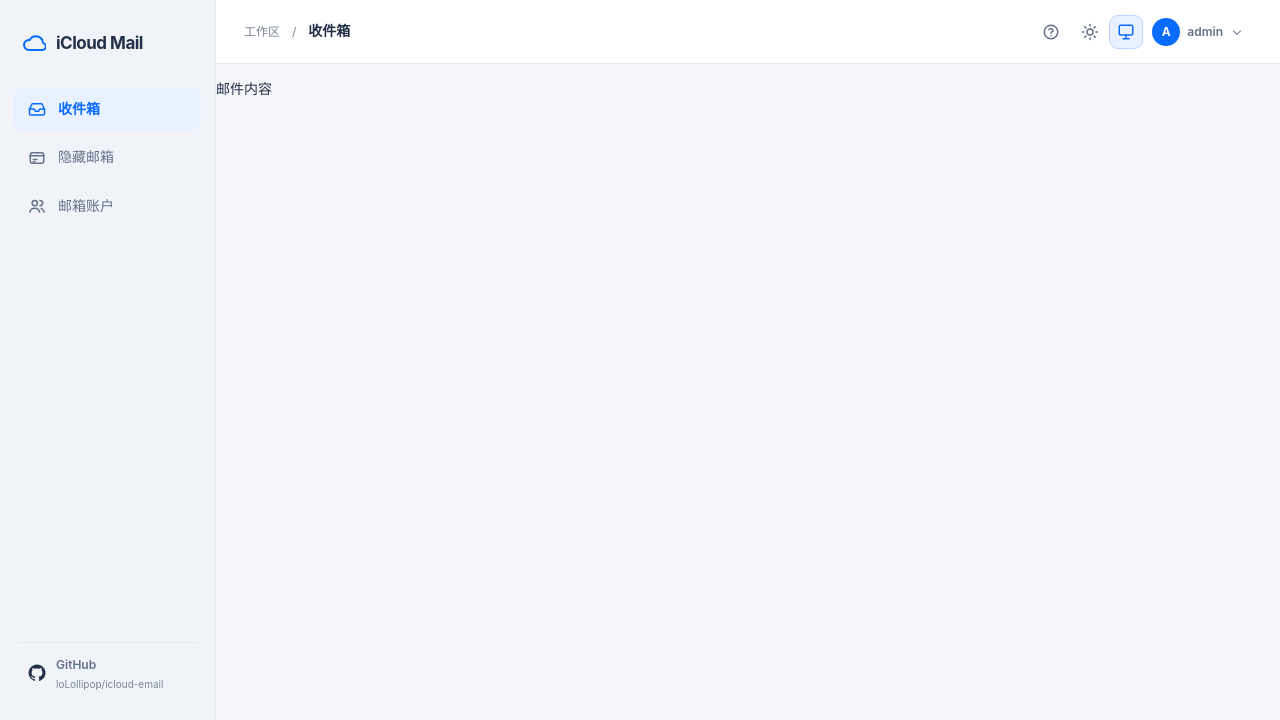
Scenario: AppShell › 导航使用新品牌，收件箱有独立布局且使用指南可访问
This screenshot has width=1280, height=720.
Expected: the text "admin" is shown, [1187,22,1223,41]
Click the link "邮箱账户" at (71, 206), box [28,197,114,215]
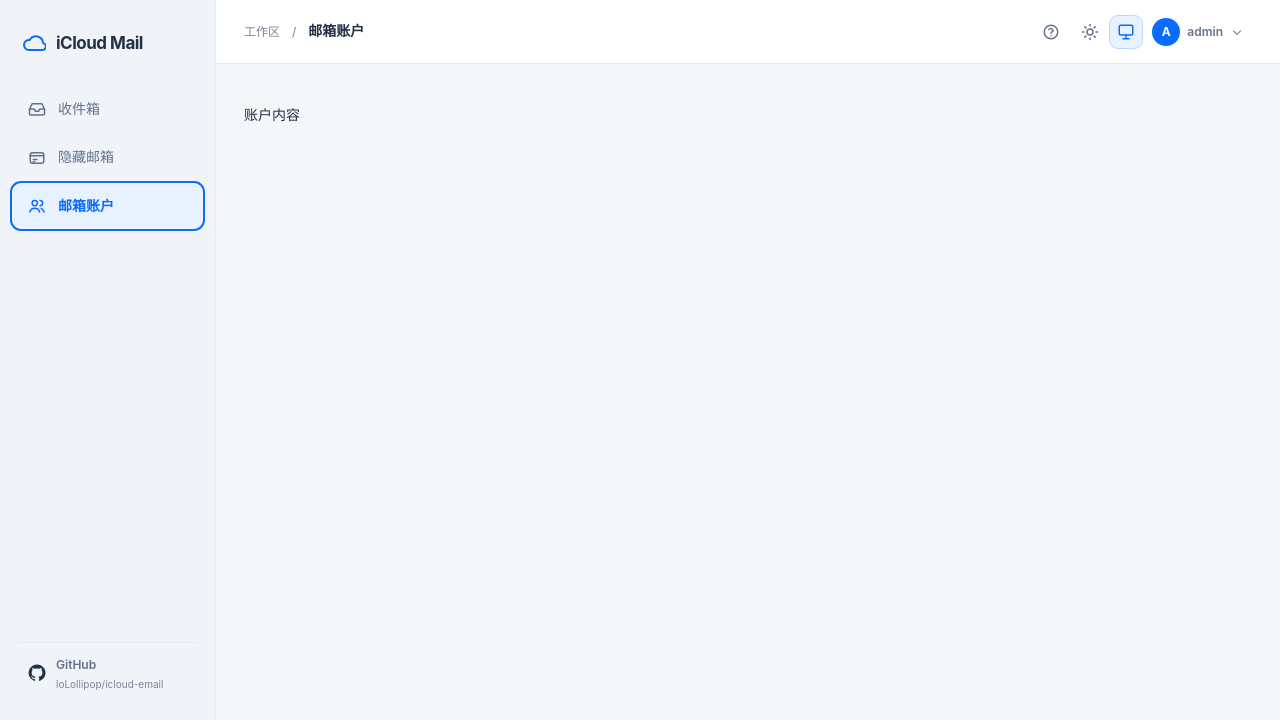
Result: the heading "邮箱账户" is shown at [308,20,364,43]
Click the link named "使用指南" at (1051, 32), box [1042,22,1060,40]
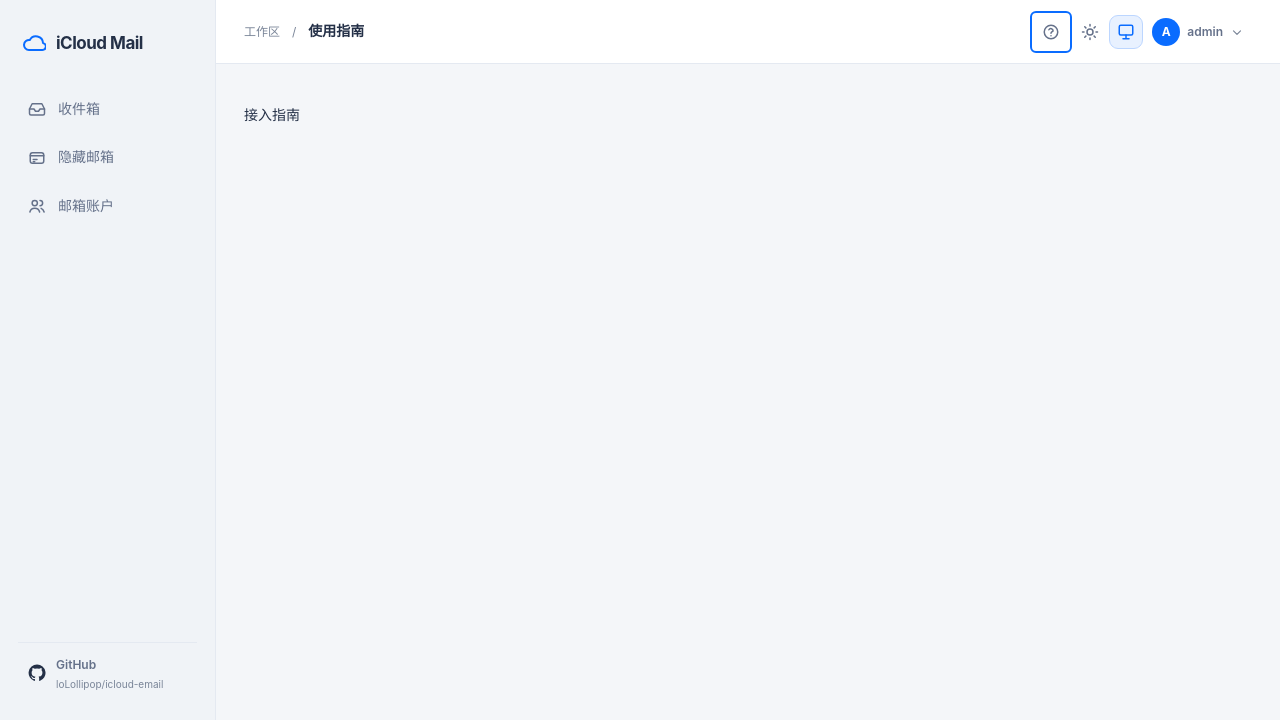
Result: the text "接入指南" is shown at [244,106,300,123]
